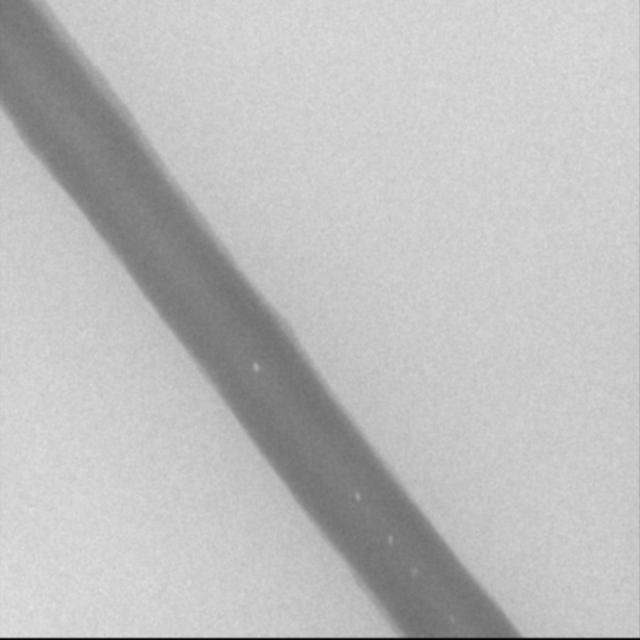air hole: (447, 612, 456, 626), (252, 360, 261, 372), (410, 565, 419, 577), (387, 533, 394, 546), (353, 491, 361, 502)
